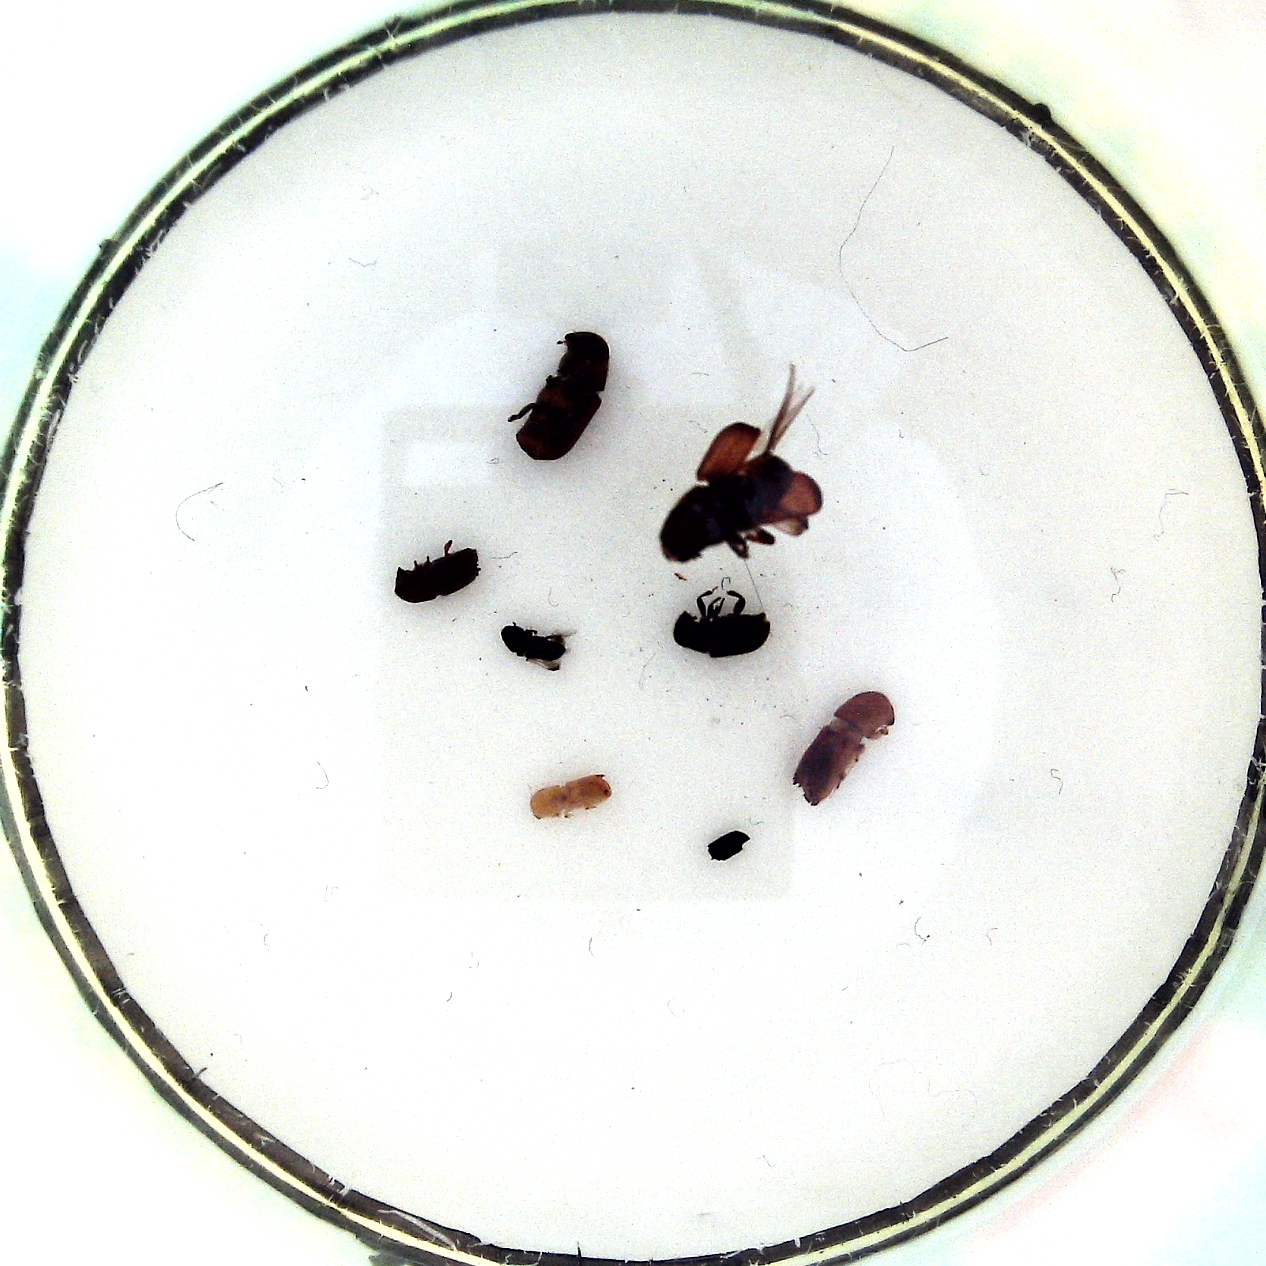Boerner: (785, 684, 900, 807)
Leconte: (649, 365, 825, 572), (503, 325, 616, 463)
Linnaeus: (390, 537, 483, 606)
acuminatus: (521, 765, 620, 827)
armandi: (671, 583, 777, 661)
coleoptera: (495, 614, 579, 674), (703, 824, 754, 865)
